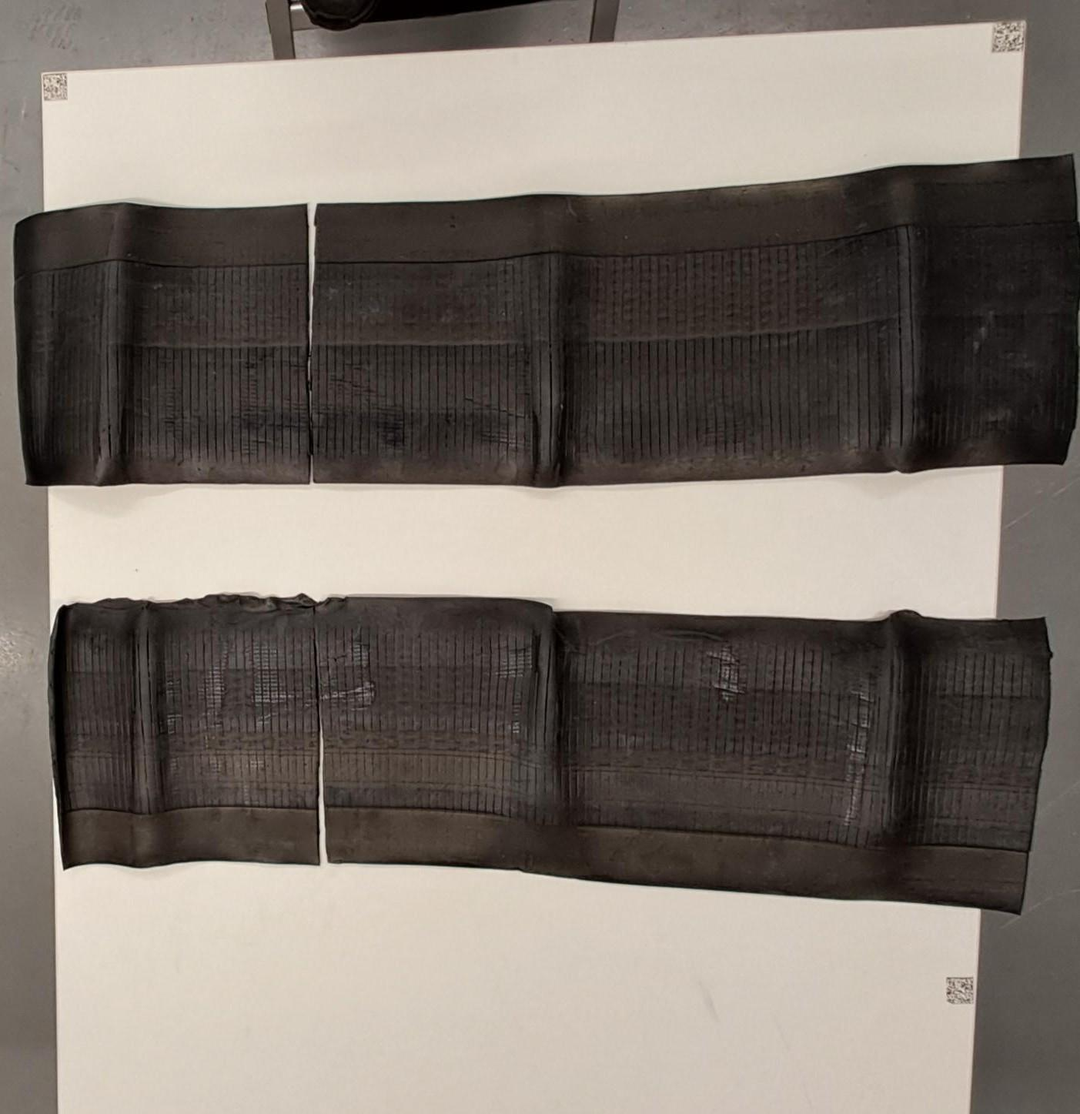cut_edge: (316, 666, 328, 864), (307, 203, 316, 421)
qr_code: (991, 20, 1024, 52), (946, 977, 973, 1003), (43, 73, 67, 101)
